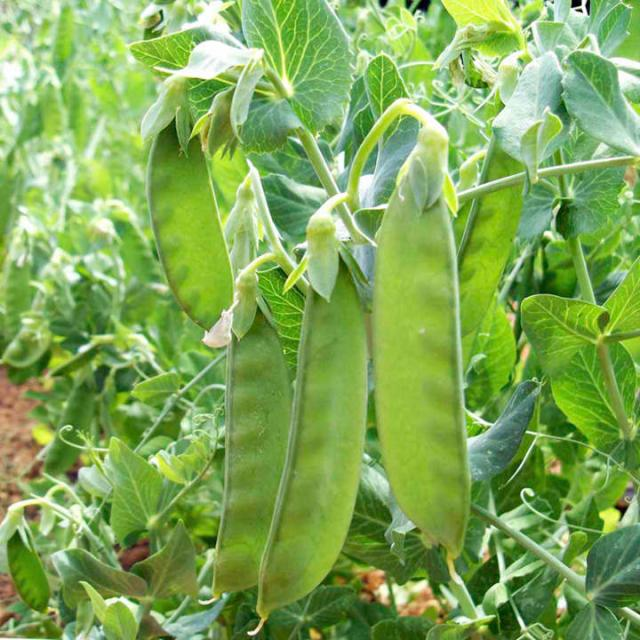Peas: (255, 229, 368, 631), (374, 121, 476, 559), (216, 252, 294, 594), (149, 101, 232, 329)
